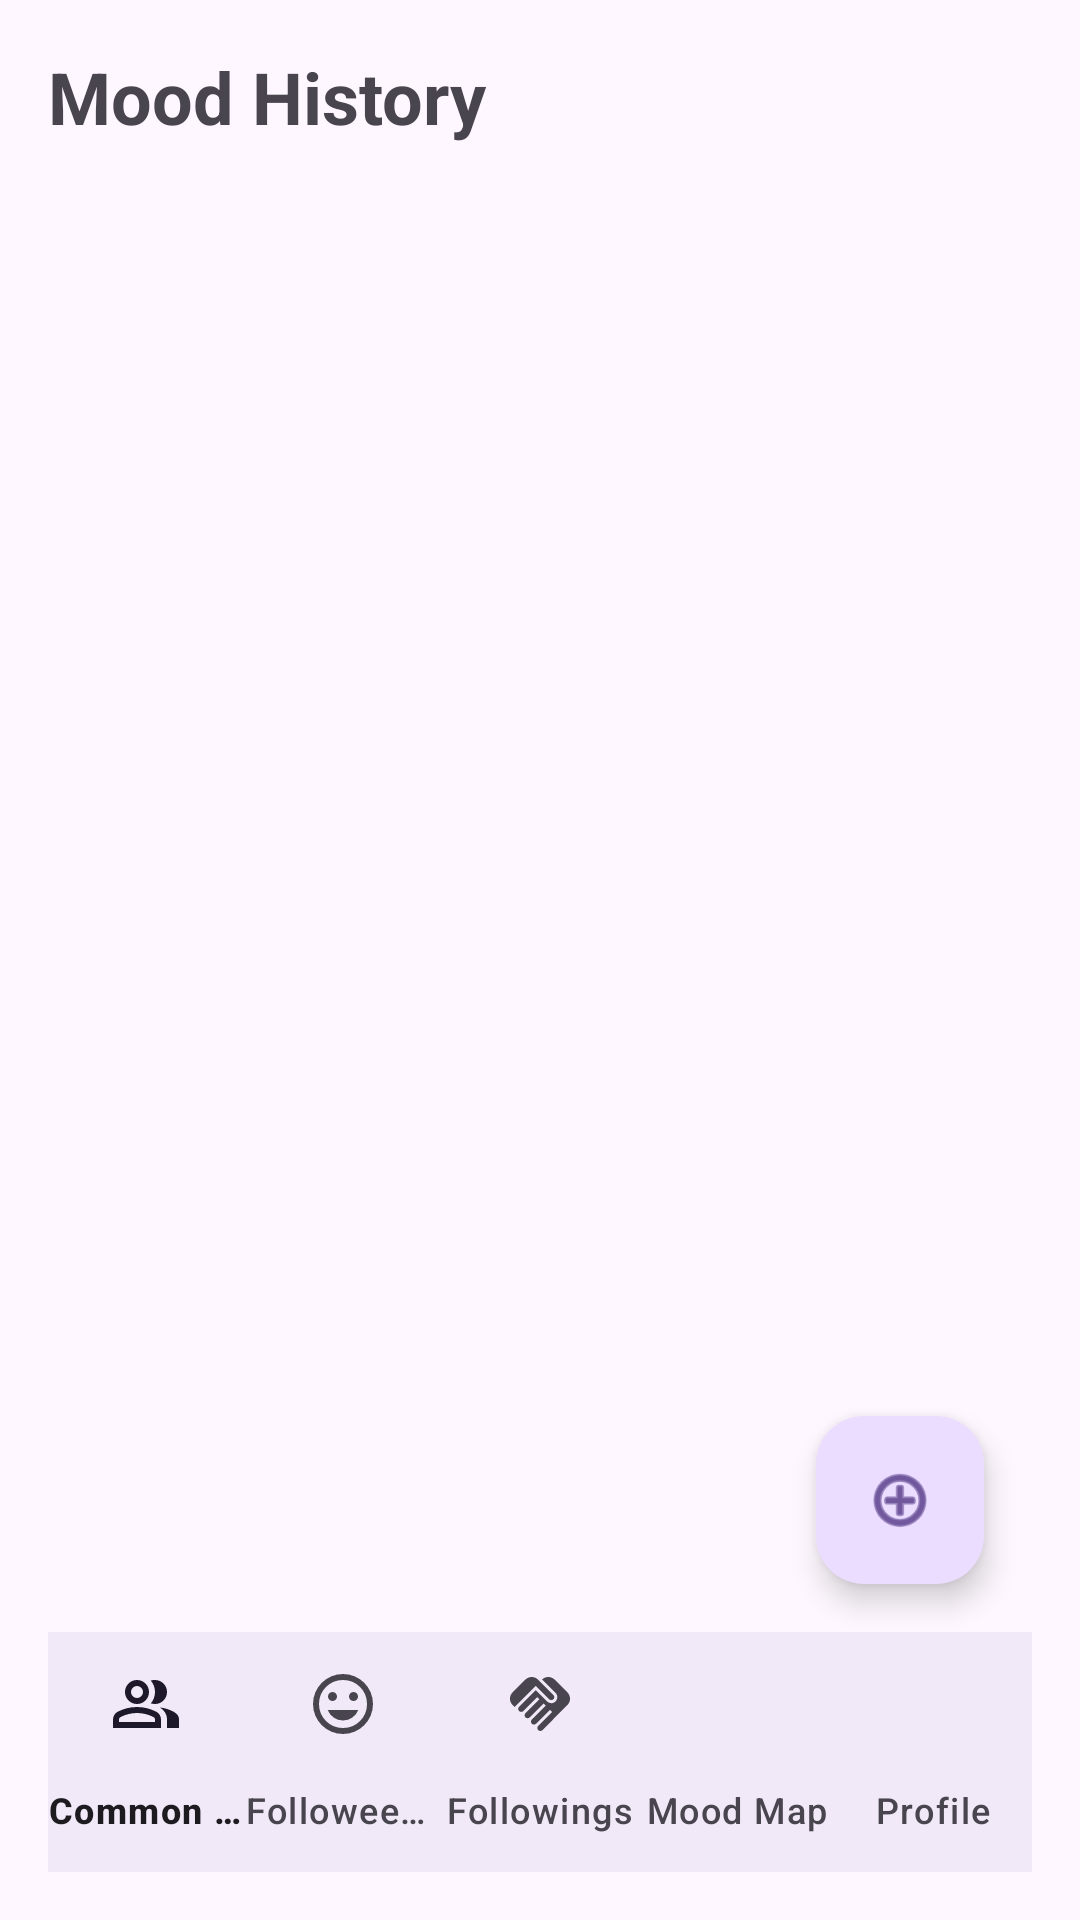

Screen size 1080w x 1920h. Icon name, then its center in pixels as (x,y):
add: (900,1500)
